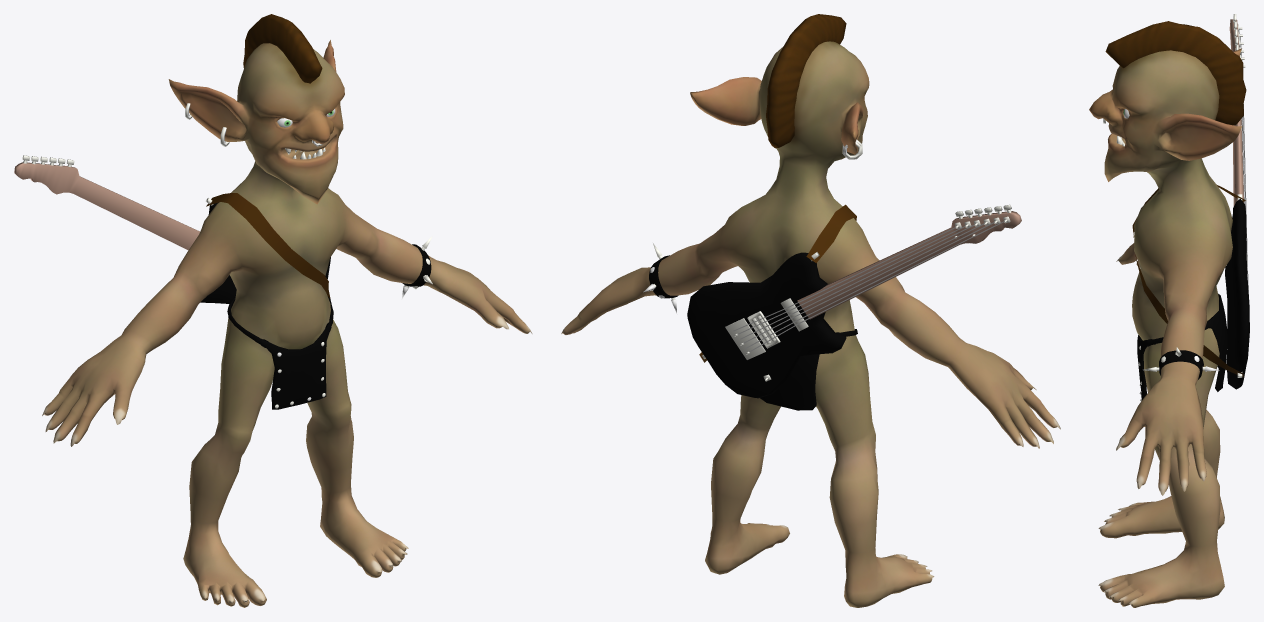
File: goblin_test.fbx
3 views of the same model, side by side, from view 1: azimuth 30°, elevation 25°; view 2: azimuth 150°, elevation 25°; view 3: azimuth 270°, elevation 25° (orthographic). The views are drawn at different scales.
Parts seen in each view (by area): view 1: goblin; view 2: goblin; view 3: goblin.
Part boxes in pixels (x1,y1,x2,y2): goblin: (14, 14, 532, 607); goblin: (561, 14, 1060, 607); goblin: (1089, 14, 1249, 607).
Size of the model in its own units: 191 by 211 by 56.45.
Materials: 1 (1 with a texture image).
